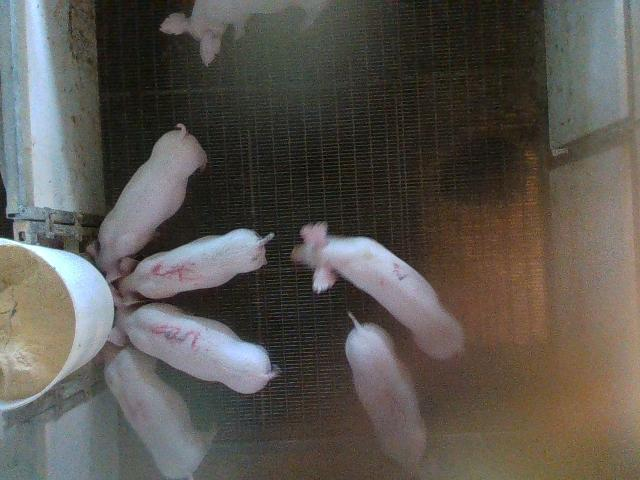pig-1: (345, 314, 426, 474)
pig-3: (109, 302, 276, 393)
pig-4: (104, 345, 214, 479)
pig-5: (115, 229, 274, 303)
